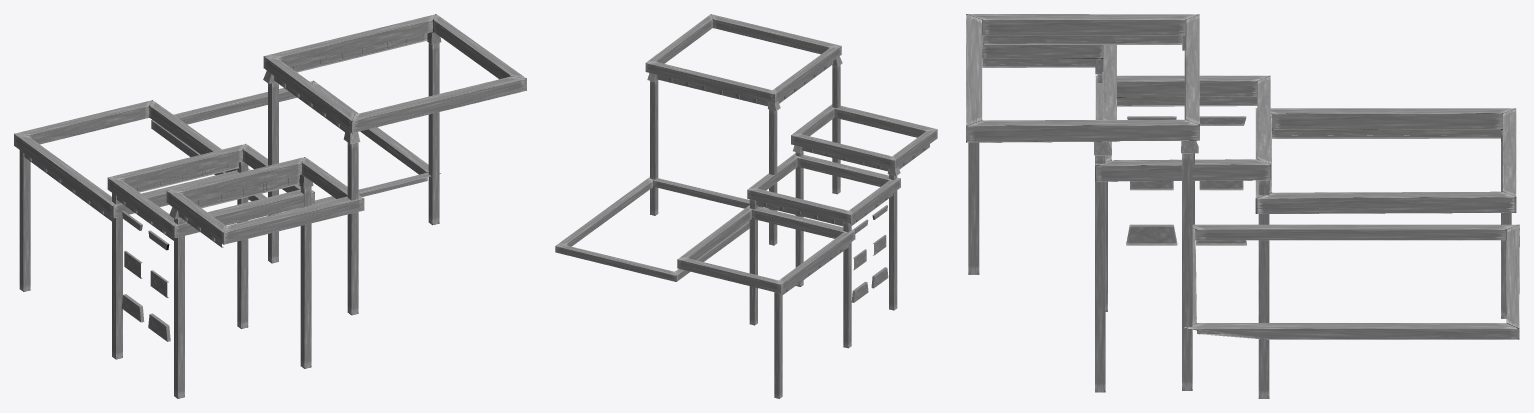
The model's file is SM_ConcreteAccents_04.fbx.
The picture shows the model from 3 angles, left to right: view 1: azimuth 30°, elevation 25°; view 2: azimuth 150°, elevation 25°; view 3: azimuth 270°, elevation 25°; orthographic projection. The views are drawn at different scales.
Parts seen in each view (by area): view 1: SM_ConcreteAccents_04; view 2: SM_ConcreteAccents_04; view 3: SM_ConcreteAccents_04.
Part boxes in pixels (x1,y1,x2,y2): SM_ConcreteAccents_04: [14, 14, 526, 398]; SM_ConcreteAccents_04: [555, 14, 937, 398]; SM_ConcreteAccents_04: [966, 14, 1519, 398].
Size of the model in its own units: 5137 by 4684 by 6184.
